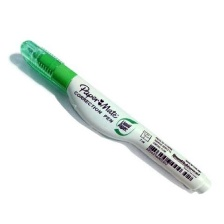correction_fluid: (16, 36, 212, 198)
